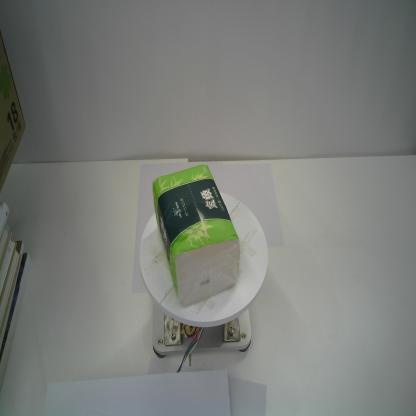Tissue: (152, 164, 240, 308)
